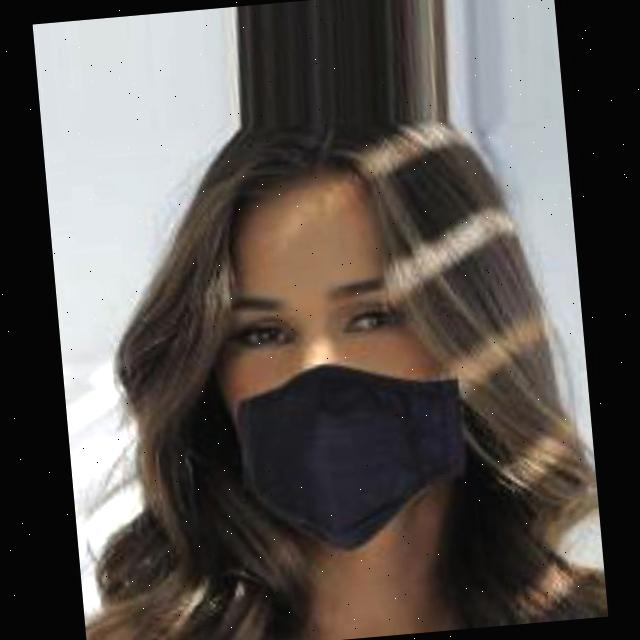suspicion: (198, 121, 532, 554)
